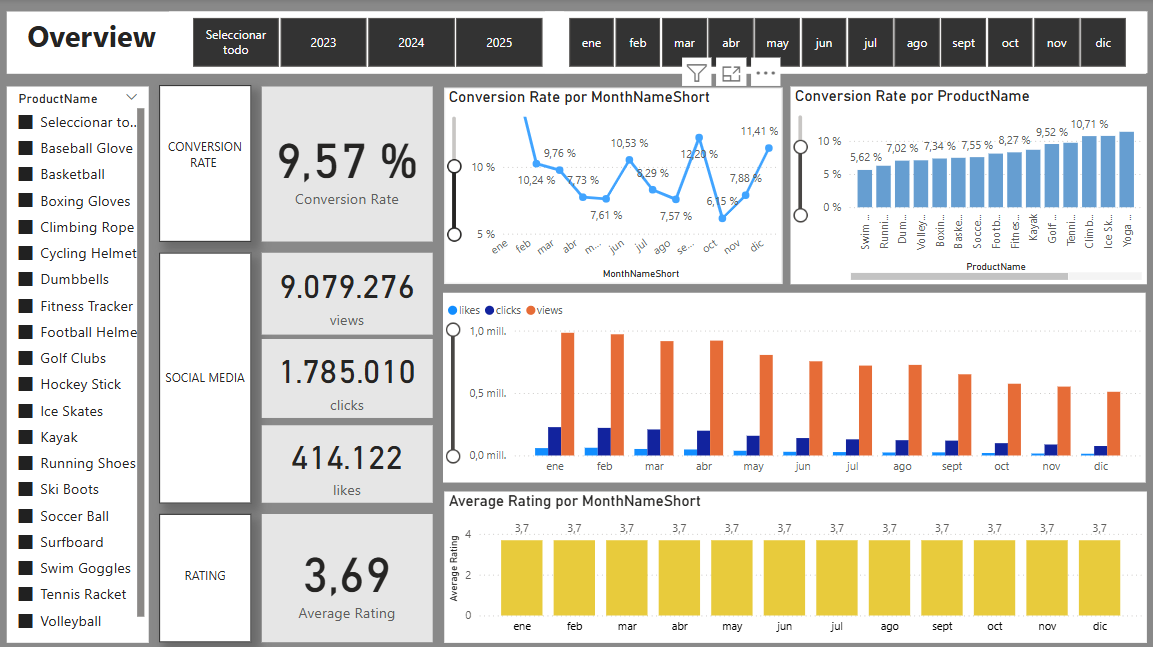

This screenshot's page, from the dashboard's own definition file:
{"tool":"powerbi","page":{"name":"Overview","canvas":[1280,720],"ordinal":0},"visuals":[{"type":"textbox","box":[10.1,14.4,1258.7,69],"z":0},{"type":"slicer","fields":{"Values":["dim_products.ProductName"]},"box":[10.1,96.4,156.8,614.3],"z":1000},{"type":"textbox","box":[178.6,95.7,101.4,172.9],"z":2000},{"type":"textbox","box":[178.6,280,101.4,277.1],"z":3000},{"type":"textbox","box":[178.6,568.6,101.4,141.4],"z":4000},{"type":"card","fields":{"Values":["_Calculations.Conversion Rate"]},"box":[291.4,97.1,188.6,171.4],"z":5000},{"type":"card","fields":{"Values":["_Calculations.views"]},"box":[291.4,280,188.6,90],"z":6000},{"type":"card","fields":{"Values":["_Calculations.likes"]},"box":[291.4,471.4,188.6,85.7],"z":7000},{"type":"card","fields":{"Values":["_Calculations.clicks"]},"box":[291.4,375.7,188.6,87.1],"z":8000},{"type":"card","fields":{"Values":["_Calculations.Average Rating"]},"box":[291.4,568.6,188.6,141.4],"z":9000},{"type":"slicer","fields":{"Values":["Calendar.MonthNameShort"]},"box":[604.2,14.4,664.6,67.6],"z":10000},{"type":"slicer","fields":{"Values":["Calendar.Year"]},"box":[188.4,14.4,435.9,67.6],"z":11000},{"type":"lineChart","fields":{"Y":["_Calculations.Conversion Rate"],"Category":["Calendar.MonthNameShort"]},"box":[492.2,97.7,374,217.2],"z":12000},{"type":"columnChart","fields":{"Category":["dim_products.ProductName"],"Y":["_Calculations.Conversion Rate"]},"box":[875.9,96.5,393.3,218.4],"z":13000},{"type":"clusteredColumnChart","fields":{"Category":["Calendar.MonthNameShort"],"Y":["_Calculations.likes","_Calculations.clicks","_Calculations.views"]},"box":[491,324.5,775.7,209.9],"z":14000},{"type":"clusteredColumnChart","fields":{"Category":["Calendar.MonthNameShort"],"Y":["_Calculations.Average Rating"]},"box":[492.9,544.3,775.7,167.1],"z":15000}]}

Visuals, with their boxes in screenshot pixels (x1, y1, x2, y2), scaled from the page's 1280x720 canvas onto the 1153x647 screenshot:
textbox: box=[9, 13, 1143, 75]
slicer - dim_products.ProductName: box=[9, 87, 150, 639]
textbox: box=[161, 86, 252, 241]
textbox: box=[161, 252, 252, 501]
textbox: box=[161, 511, 252, 638]
card - _Calculations.Conversion Rate: box=[262, 87, 432, 241]
card - _Calculations.views: box=[262, 252, 432, 332]
card - _Calculations.likes: box=[262, 424, 432, 501]
card - _Calculations.clicks: box=[262, 338, 432, 416]
card - _Calculations.Average Rating: box=[262, 511, 432, 638]
slicer - Calendar.MonthNameShort: box=[544, 13, 1143, 74]
slicer - Calendar.Year: box=[170, 13, 562, 74]
lineChart - _Calculations.Conversion Rate x Calendar.MonthNameShort: box=[443, 88, 780, 283]
columnChart - dim_products.ProductName x _Calculations.Conversion Rate: box=[789, 87, 1143, 283]
clusteredColumnChart - Calendar.MonthNameShort x _Calculations.likes: box=[442, 292, 1141, 480]
clusteredColumnChart - Calendar.MonthNameShort x _Calculations.Average Rating: box=[444, 489, 1143, 639]
